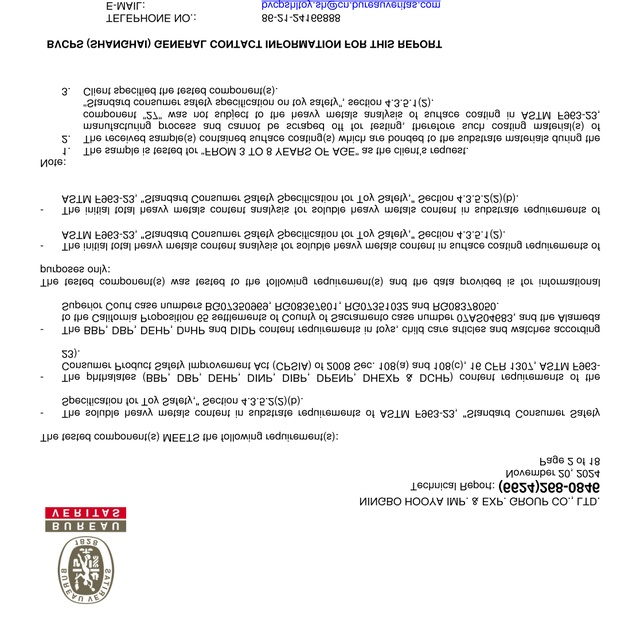bureau_veritas: (42, 503, 129, 606)
